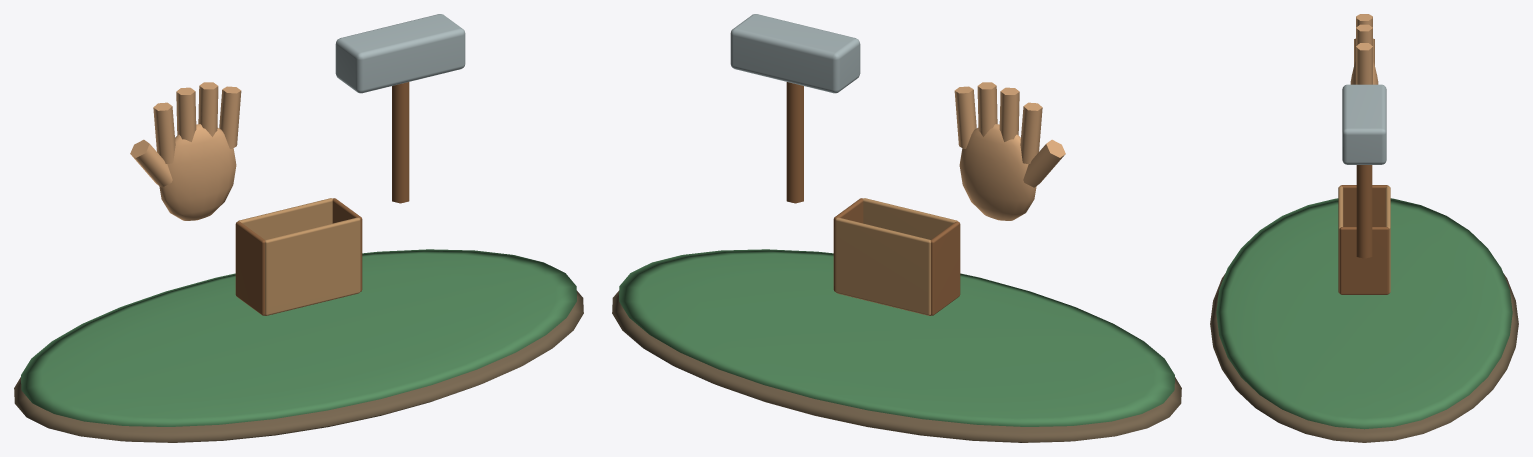
The model's file is complete-second-acting-use.glb.
3 renders of one model, left to right at view 1: azimuth 30°, elevation 25°; view 2: azimuth 150°, elevation 25°; view 3: azimuth 270°, elevation 25°, orthographic. The views are drawn at different scales.
Parts seen in each view (by area): view 1: complete-second-acting-use_surface_01, complete-second-acting-use_surface_02, complete-second-acting-use_surface_00, complete-second-acting-use_surface_05, complete-second-acting-use_surface_04, complete-second-acting-use_surface_03; view 2: complete-second-acting-use_surface_01, complete-second-acting-use_surface_02, complete-second-acting-use_surface_00, complete-second-acting-use_surface_05, complete-second-acting-use_surface_04, complete-second-acting-use_surface_03; view 3: complete-second-acting-use_surface_01, complete-second-acting-use_surface_00, complete-second-acting-use_surface_03, complete-second-acting-use_surface_04, complete-second-acting-use_surface_02, complete-second-acting-use_surface_05.
Boxes of the visible parts, x1,y1,x2,y2 form: complete-second-acting-use_surface_01: [21, 249, 576, 426]; complete-second-acting-use_surface_02: [130, 82, 241, 220]; complete-second-acting-use_surface_00: [14, 290, 583, 442]; complete-second-acting-use_surface_05: [238, 198, 360, 315]; complete-second-acting-use_surface_04: [335, 14, 465, 93]; complete-second-acting-use_surface_03: [235, 82, 409, 315]; complete-second-acting-use_surface_01: [619, 249, 1174, 426]; complete-second-acting-use_surface_02: [954, 82, 1065, 220]; complete-second-acting-use_surface_00: [612, 290, 1181, 442]; complete-second-acting-use_surface_05: [835, 198, 957, 315]; complete-second-acting-use_surface_04: [730, 14, 860, 93]; complete-second-acting-use_surface_03: [786, 82, 960, 315]; complete-second-acting-use_surface_01: [1216, 198, 1512, 429]; complete-second-acting-use_surface_00: [1210, 273, 1518, 442]; complete-second-acting-use_surface_03: [1339, 165, 1389, 294]; complete-second-acting-use_surface_04: [1342, 84, 1386, 164]; complete-second-acting-use_surface_02: [1350, 14, 1378, 84]; complete-second-acting-use_surface_05: [1338, 186, 1390, 293].
Bounding box in the file's own units: 4.56 × 2.47 × 2.5.
